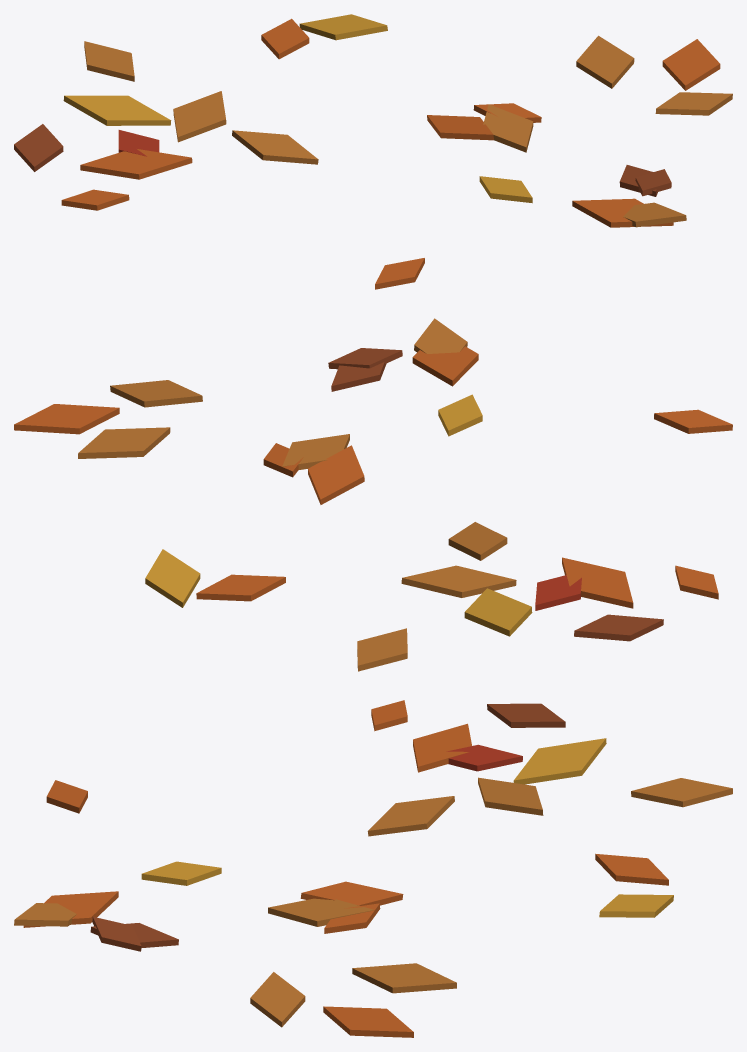
Rendered from c-leaves-decal-b.glb.
3 views of the same model, one above another, from view 1: azimuth 30°, elevation 25°; view 2: azimuth 150°, elevation 25°; view 3: azimuth 270°, elevation 25° (orthographic). The views are drawn at different scales.
Parts seen in each view (by area): view 1: c-leaves-decal-b; view 2: c-leaves-decal-b; view 3: c-leaves-decal-b.
Boxes of the visible parts, left/top/right/bottom form: c-leaves-decal-b: left=14, top=14, right=732, bottom=289; c-leaves-decal-b: left=14, top=318, right=732, bottom=671; c-leaves-decal-b: left=14, top=700, right=732, bottom=1037.
Bounding box in the file's own units: 0.9841 × 0.0329 × 0.8953.
